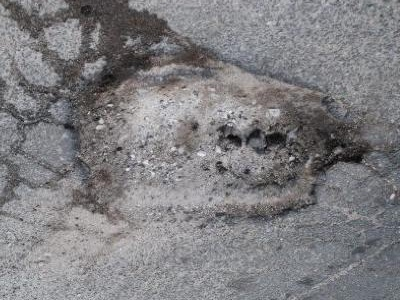pothole: (60, 43, 369, 227)
